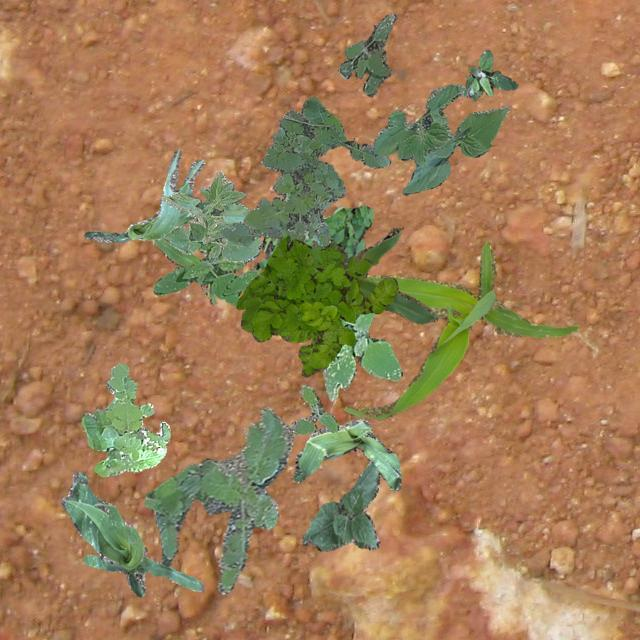crop: (342, 241, 578, 418), (60, 470, 204, 596), (372, 82, 508, 194), (310, 226, 438, 322), (82, 148, 206, 242), (160, 170, 260, 260), (292, 418, 399, 490), (301, 462, 378, 550), (154, 236, 216, 304)
weed: (144, 406, 294, 592), (220, 96, 390, 246), (235, 234, 396, 376), (80, 362, 168, 476), (152, 216, 258, 304), (252, 204, 372, 270), (322, 312, 402, 399), (336, 11, 396, 96), (462, 49, 516, 100), (288, 384, 338, 434)
